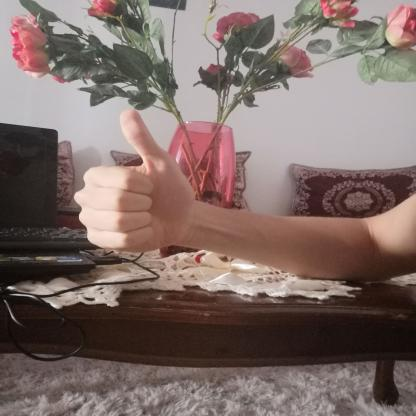ALIF: (50, 94, 212, 262)
